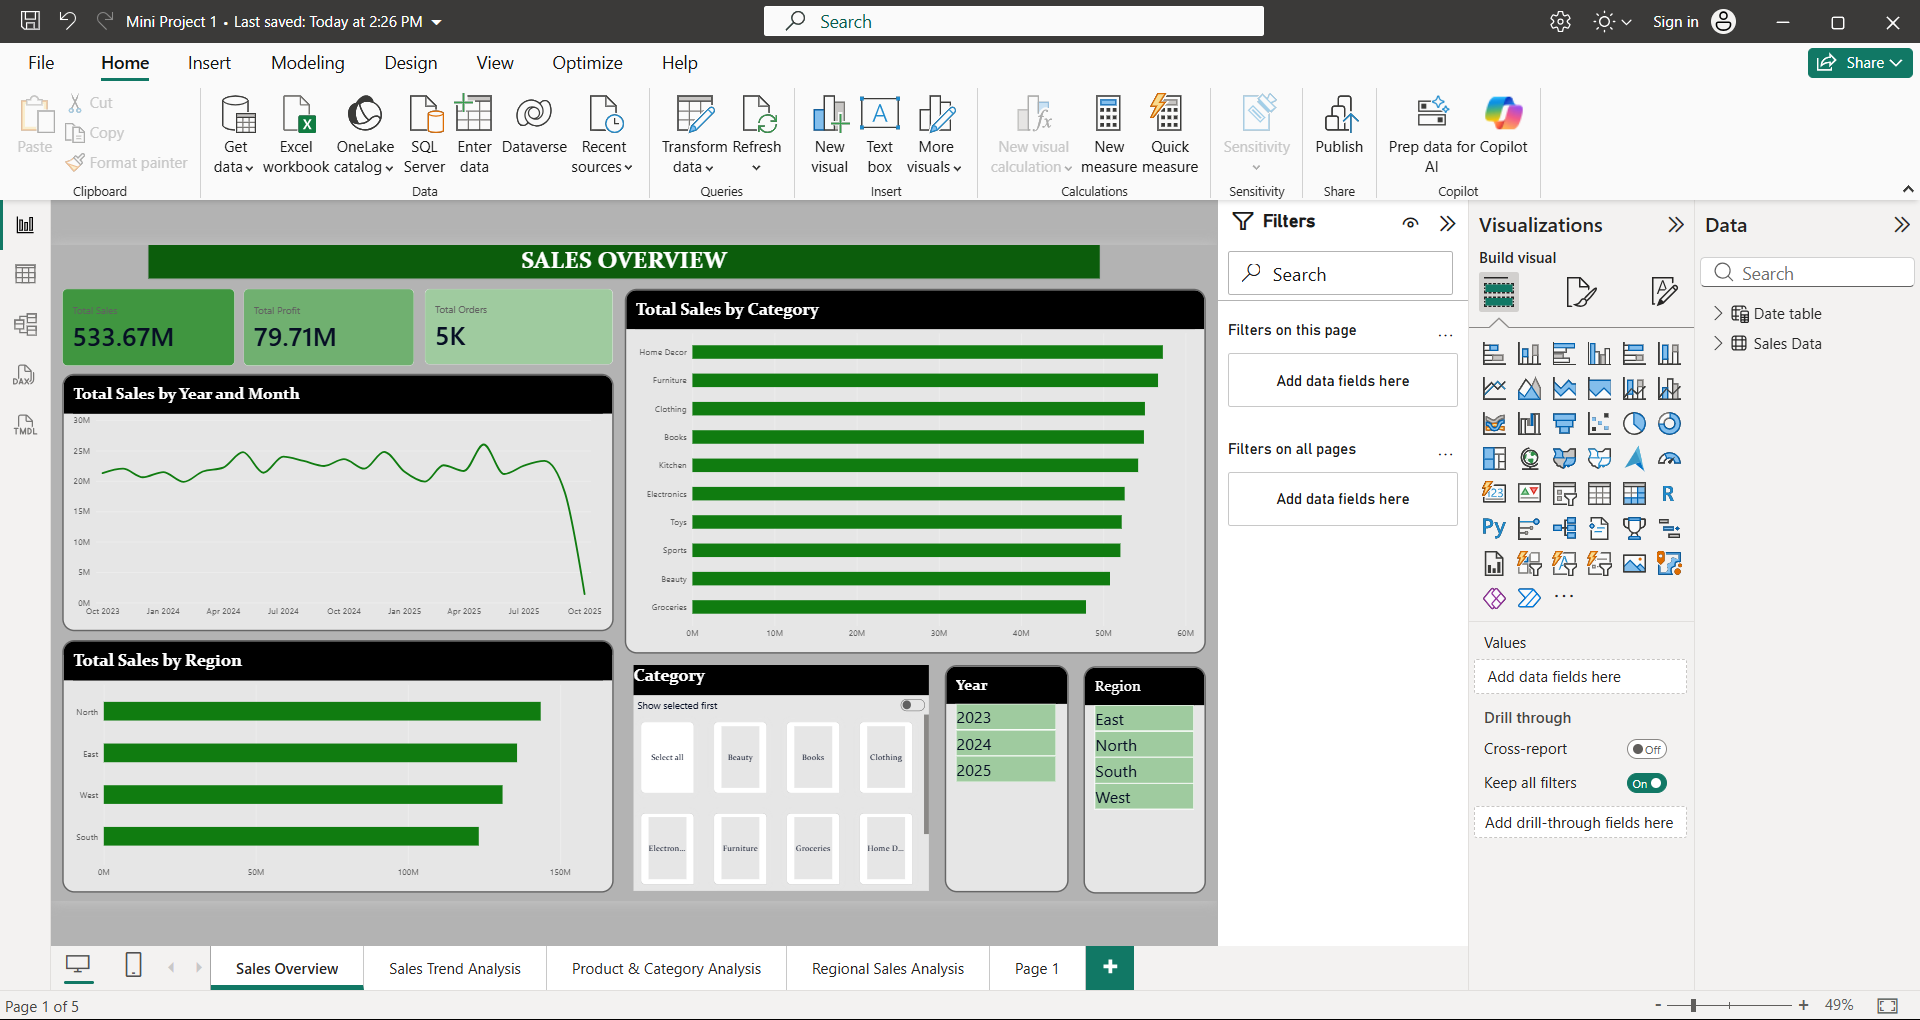

The dashboard page shown, as its layout file describes it:
{"tool":"powerbi","page":{"name":"Sales Overview","canvas":[1920,1080],"ordinal":0},"visuals":[{"type":"cardVisual","fields":{"Data":["Sales Data.Total Orders"]},"box":[615.4,72,310.8,125.6],"z":1},{"type":"cardVisual","fields":{"Data":["Sales Data.Total Sales"]},"box":[18.5,72,284,127.6],"z":2},{"type":"cardVisual","fields":{"Data":["Sales Data.Total Profit"]},"box":[317,72,282,127.6],"z":3},{"type":"clusteredBarChart","fields":{"Category":["Sales Data.Category"],"Y":["Sales Data.Total Sales"]},"box":[944,72,882,602],"z":4},{"type":"lineChart","fields":{"Category":["Date table.Date.Variation.Date Hierarchy.Year","Date table.Date.Variation.Date Hierarchy.Month"],"Y":["Sales Data.Total Sales"]},"box":[18.5,212,907.7,424],"z":5},{"type":"barChart","fields":{"Category":["Sales Data.Region"],"Y":["Sales Data.Total Sales"]},"box":[18.5,650.4,907.7,415.8],"z":6},{"type":"listSlicer","fields":{"Values":["Date table.Year"]},"box":[1432,692,203.8,374.6],"z":7},{"type":"advancedSlicerVisual","fields":{"Values":["Sales Data.Category"]},"box":[926,694,486,372],"z":8},{"type":"listSlicer","fields":{"Values":["Sales Data.Region"]},"box":[1636,692,201.7,374.6],"z":9},{"type":"shape","title":"SALES OVERVIEW","box":[160.5,0,1566.4,55.6],"z":10}]}

Visuals, with their boxes on the page's 1920x1080 design canvas (x1, y1, x2, y2). These are canvas units, not pixel positions in the 1920x1020 screenshot, which may show the page scaled, cropped or inside an application window:
cardVisual - Sales Data.Total Orders: [x1=615, y1=72, x2=926, y2=198]
cardVisual - Sales Data.Total Sales: [x1=18, y1=72, x2=302, y2=200]
cardVisual - Sales Data.Total Profit: [x1=317, y1=72, x2=599, y2=200]
clusteredBarChart - Sales Data.Category x Sales Data.Total Sales: [x1=944, y1=72, x2=1826, y2=674]
lineChart - Date table.Date.Variation.Date Hierarchy.Year x Date table.Date.Variation.Date Hierarchy.Month: [x1=18, y1=212, x2=926, y2=636]
barChart - Sales Data.Region x Sales Data.Total Sales: [x1=18, y1=650, x2=926, y2=1066]
listSlicer - Date table.Year: [x1=1432, y1=692, x2=1636, y2=1067]
advancedSlicerVisual - Sales Data.Category: [x1=926, y1=694, x2=1412, y2=1066]
listSlicer - Sales Data.Region: [x1=1636, y1=692, x2=1838, y2=1067]
"SALES OVERVIEW" shape: [x1=160, y1=0, x2=1727, y2=56]
